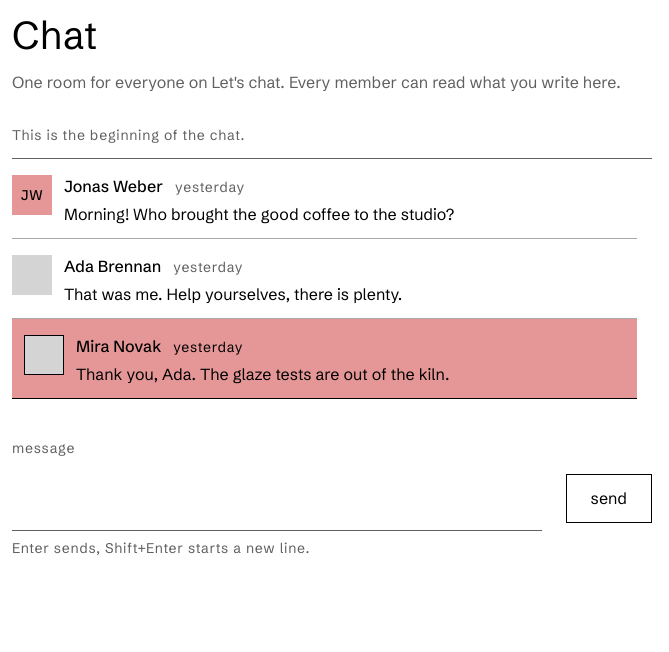
Test: ChatPage › F-80, B-83: an incoming message appears live and leaves the draft alone
Type "I was just about to say" into the text box labelled "message" at (277, 499), box x1=12 y1=467 x2=542 y2=531
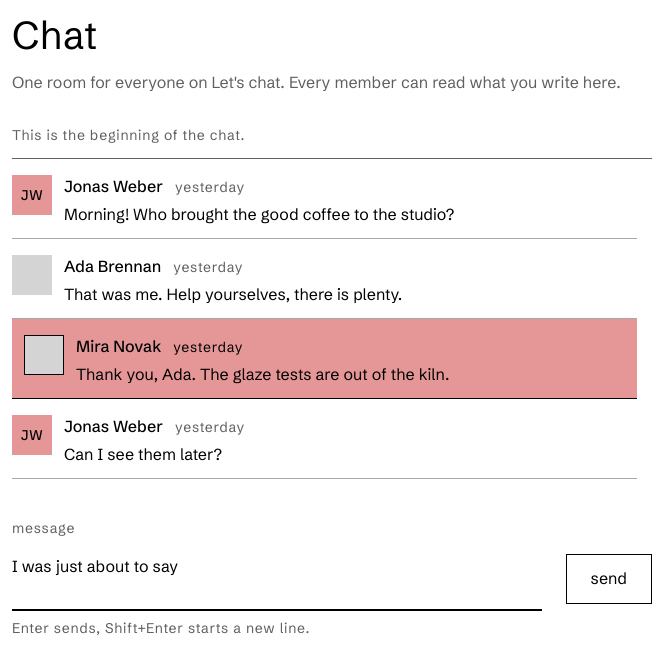
Expected: the text "Can I see them later?" is shown, x1=64 y1=444 x2=222 y2=464
